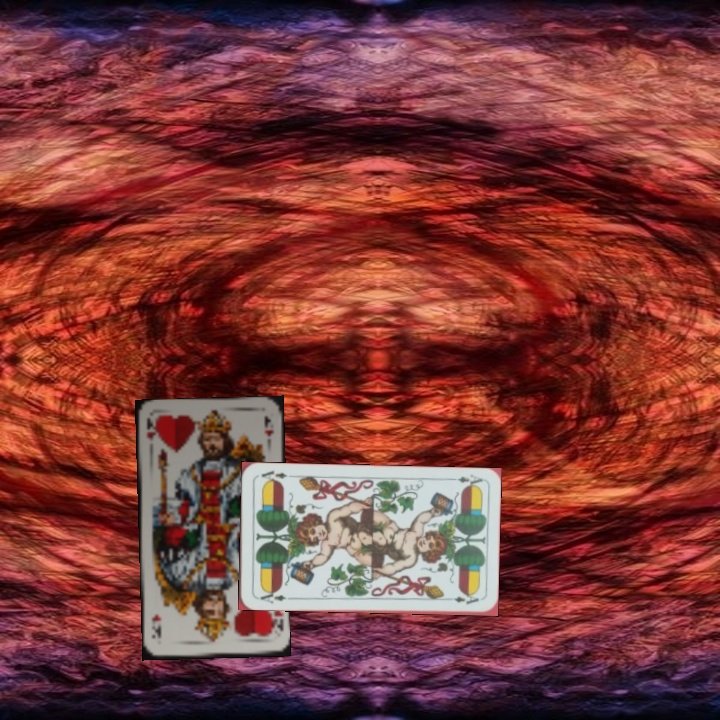EA: (444, 471, 485, 490), (253, 586, 288, 606)
HK: (265, 605, 285, 637), (142, 414, 159, 444)
